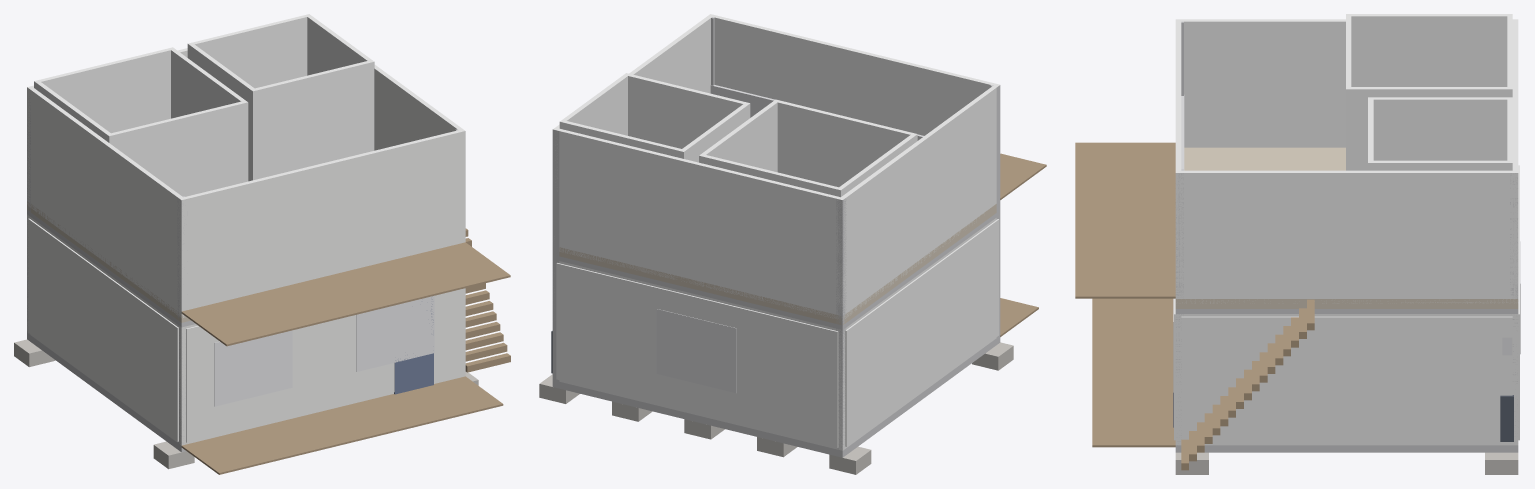
File: Duplex-20-Premium+FullSolar-LOD1.glb
3 renders of one model, left to right at view 1: azimuth 30°, elevation 25°; view 2: azimuth 150°, elevation 25°; view 3: azimuth 270°, elevation 25°, orthographic. The views are drawn at different scales.
Visible parts, largest first — view 1: ExteriorShellUpper, ExteriorPanelsPremium, StudyUpper, BedroomUpper, BalconyUpper, BalconyGround, WindowsLargeUpgrade, StaircaseExternal, ExteriorShell, FoundationBlocks, EntryDoor, BaseFrame (+3 smaller); view 2: ExteriorShellUpper, ExteriorPanelsPremium, BedroomUpper, StudyUpper, WindowsLargeUpgrade, VerticalStructure, FloorUpper, FoundationBlocks, BaseFrame, ExteriorShell, TopFrame, BalconyUpper (+2 smaller); view 3: ExteriorShellUpper, ExteriorPanelsPremium, BalconyUpper, BedroomUpper, BalconyGround, StudyUpper, FloorUpper, StaircaseExternal, ExteriorShell, BaseFrame, TopFrame, FoundationBlocks (+2 smaller).
Boxes of the visible parts, x1=… form: ExteriorShellUpper: x1=27, y1=48, x2=465, y2=317; ExteriorPanelsPremium: x1=28, y1=218, x2=461, y2=442; StudyUpper: x1=187, y1=14, x2=374, y2=181; BedroomUpper: x1=34, y1=47, x2=248, y2=196; BalconyUpper: x1=181, y1=242, x2=510, y2=346; BalconyGround: x1=181, y1=376, x2=503, y2=474; WindowsLargeUpgrade: x1=214, y1=295, x2=434, y2=406; StaircaseExternal: x1=465, y1=228, x2=510, y2=372; ExteriorShell: x1=27, y1=214, x2=465, y2=445; FoundationBlocks: x1=14, y1=339, x2=478, y2=469; EntryDoor: x1=394, y1=299, x2=433, y2=394; BaseFrame: x1=27, y1=333, x2=186, y2=452; ExteriorShellUpper: x1=553, y1=14, x2=999, y2=320; ExteriorPanelsPremium: x1=556, y1=219, x2=999, y2=447; BedroomUpper: x1=699, y1=99, x2=917, y2=197; StudyUpper: x1=559, y1=73, x2=750, y2=162; WindowsLargeUpgrade: x1=656, y1=309, x2=736, y2=393; VerticalStructure: x1=552, y1=17, x2=1000, y2=449; FloorUpper: x1=553, y1=204, x2=996, y2=325; FoundationBlocks: x1=539, y1=342, x2=1013, y2=474; BaseFrame: x1=552, y1=336, x2=1000, y2=457; ExteriorShell: x1=553, y1=218, x2=996, y2=450; TopFrame: x1=559, y1=213, x2=996, y2=329; BalconyUpper: x1=1000, y1=153, x2=1046, y2=199; ExteriorShellUpper: x1=1175, y1=19, x2=1518, y2=303; ExteriorPanelsPremium: x1=1174, y1=165, x2=1519, y2=443; BalconyUpper: x1=1075, y1=142, x2=1175, y2=298; BedroomUpper: x1=1346, y1=14, x2=1512, y2=170; BalconyGround: x1=1092, y1=298, x2=1175, y2=447; StudyUpper: x1=1368, y1=97, x2=1512, y2=170; FloorUpper: x1=1175, y1=147, x2=1518, y2=308; StaircaseExternal: x1=1181, y1=299, x2=1314, y2=470; ExteriorShell: x1=1175, y1=314, x2=1518, y2=445; BaseFrame: x1=1175, y1=445, x2=1518, y2=452; TopFrame: x1=1175, y1=309, x2=1518, y2=313; FoundationBlocks: x1=1175, y1=452, x2=1518, y2=474.
Size of the model in its own units: 7.94 by 6 by 8.
